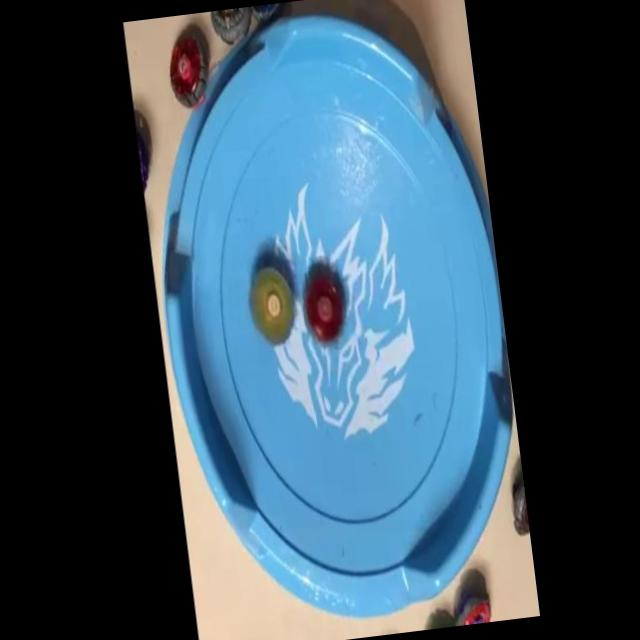Beyblade: (245, 266, 298, 348), (165, 33, 212, 110), (301, 274, 346, 344)
